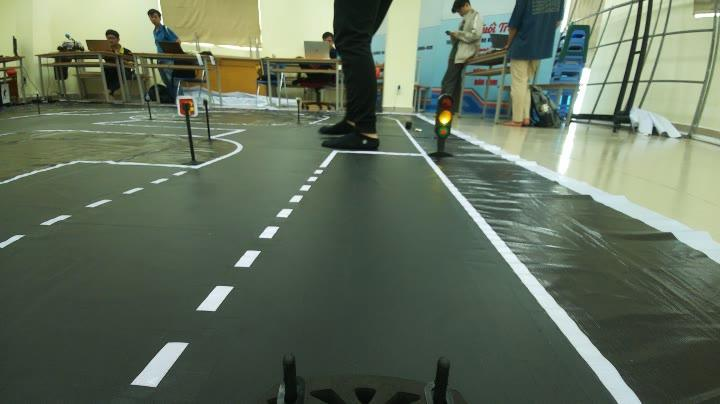trafficlight: (421, 92, 465, 162)
